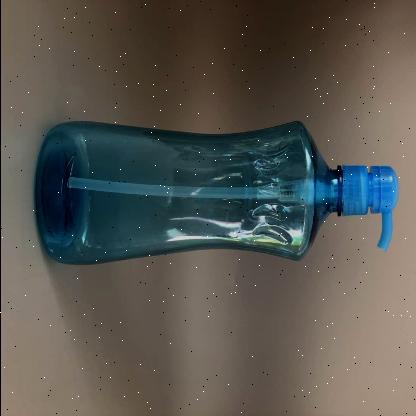Plastic Bottle: (35, 119, 399, 265)
